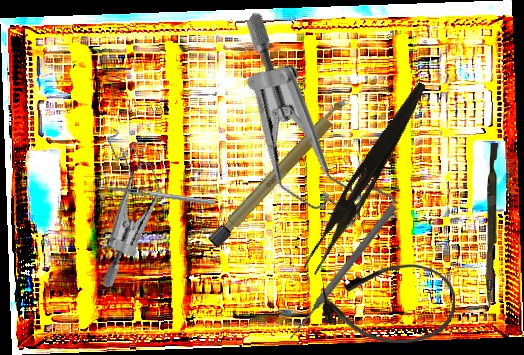Cannula: (323, 264, 455, 343)
Dressing Forceps: (301, 75, 430, 280)
Pusher: (285, 202, 399, 343), (486, 143, 498, 308)
Scalpel Handle: (206, 92, 355, 251)
Spatula Surgical: (93, 183, 216, 210)
Speculum: (177, 9, 449, 255), (56, 118, 188, 290)
